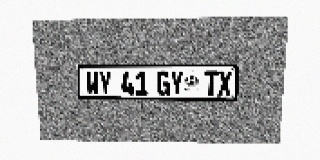1: (135, 71, 148, 95)
4: (121, 71, 134, 95)
G: (157, 71, 170, 95)
T: (204, 71, 218, 95)
W: (86, 71, 99, 95)
X: (218, 71, 232, 96)
Y: (99, 71, 112, 95), (170, 71, 183, 95)
